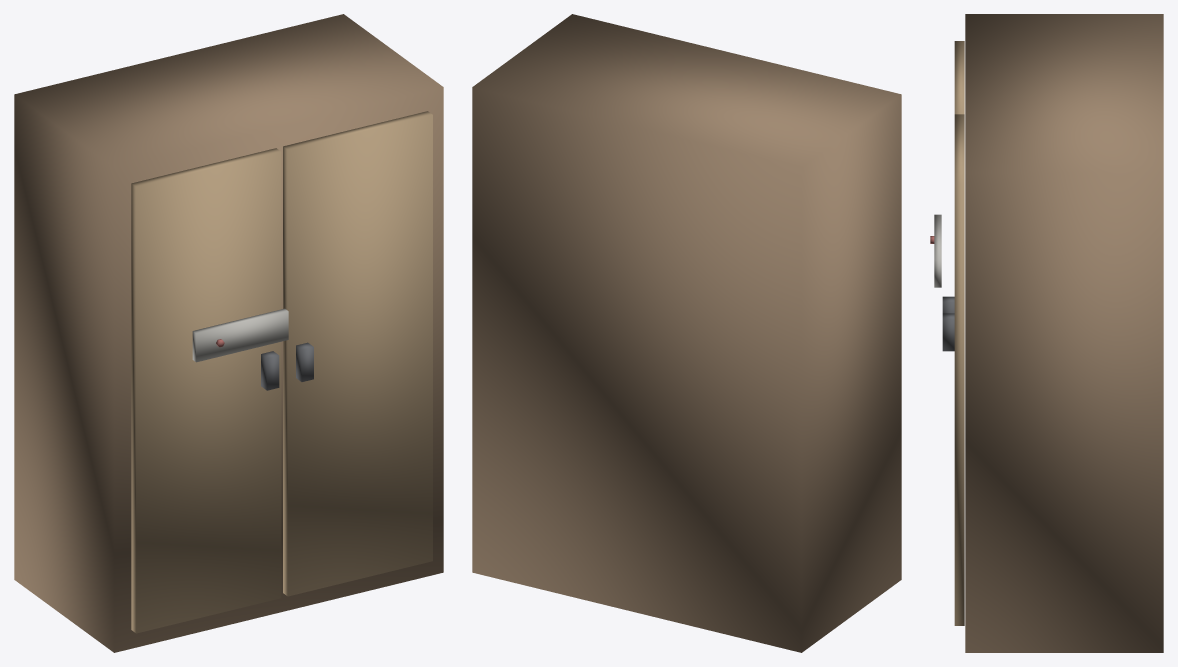
The model's file is dental_instrument_cabinet__reinforced.glb.
The picture shows the model from 3 angles, left to right: view 1: azimuth 30°, elevation 25°; view 2: azimuth 150°, elevation 25°; view 3: azimuth 270°, elevation 25°; orthographic projection.
Visible parts, largest first — view 1: world; view 2: world; view 3: world.
Boxes of the visible parts, left/top/right/bottom form: world: left=14, top=14, right=443, bottom=652; world: left=472, top=14, right=901, bottom=652; world: left=930, top=14, right=1163, bottom=652.
Size of the model in its own units: 0.9785 by 1.38 by 0.6062.
